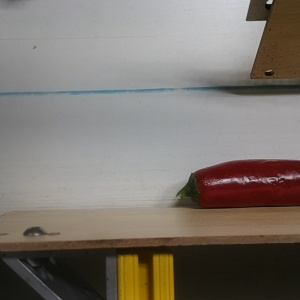Cut Point: (182, 169, 214, 207)
